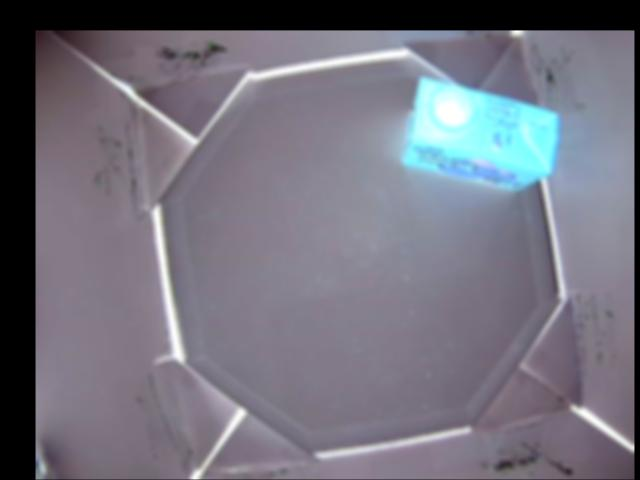Bottle: (401, 78, 560, 188)
